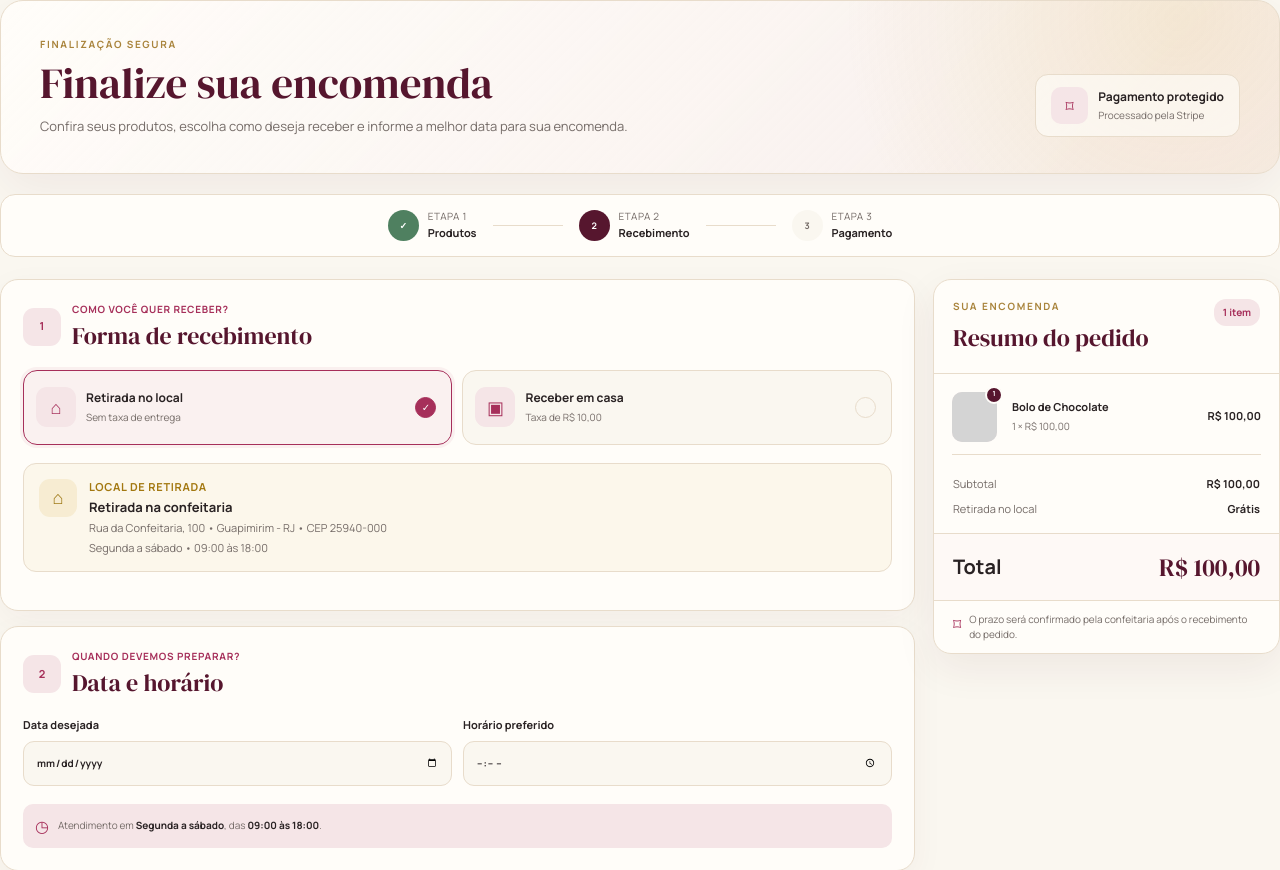
Test case: Payment - exibição do pedido › adiciona a taxa ao selecionar entrega
The width and height of the screenshot is (1280, 870).
Click the button "▣ Receber em casa Taxa de R$ 10,00".
click(495, 407)  # box x1=462 y1=370 x2=892 y2=445
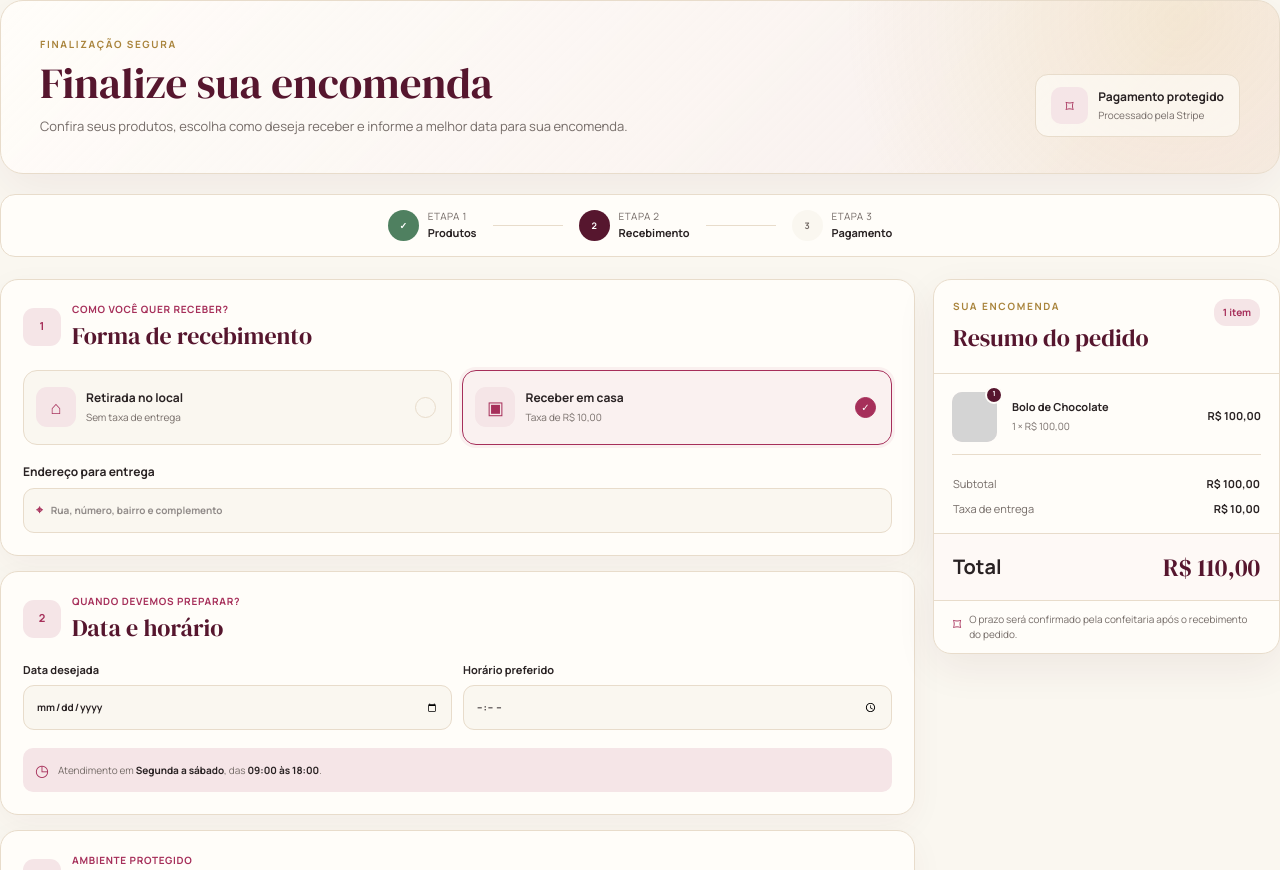
Expected: the text "Taxa de entrega" is shown, x1=953 y1=501 x2=1034 y2=518
Expected: the text "R$ 110,00" is shown, x1=1163 y1=550 x2=1260 y2=584
